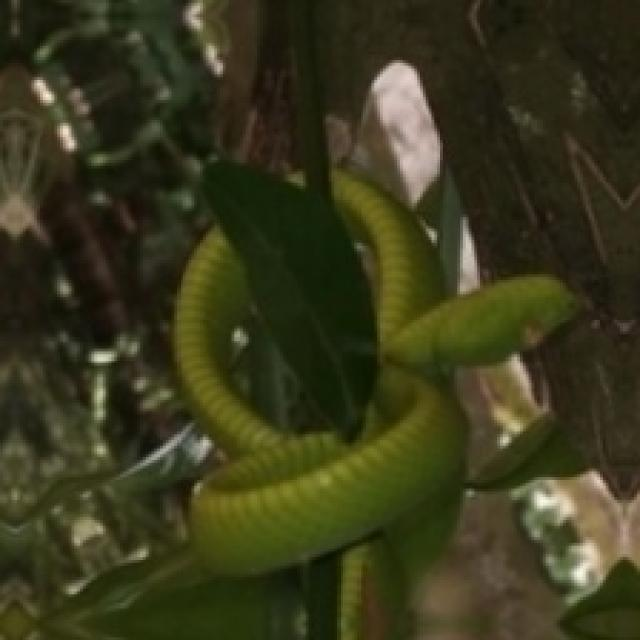north ph temple pitviper: (174, 163, 574, 571), (223, 297, 337, 434)
